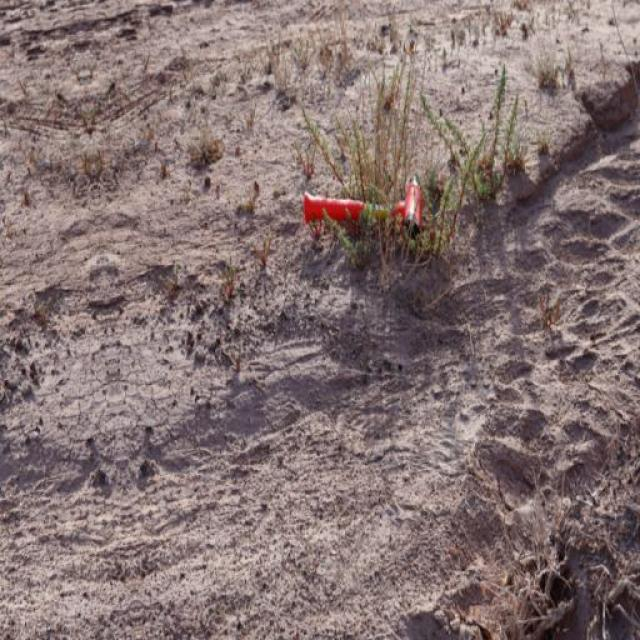mallet: (301, 176, 424, 239)
